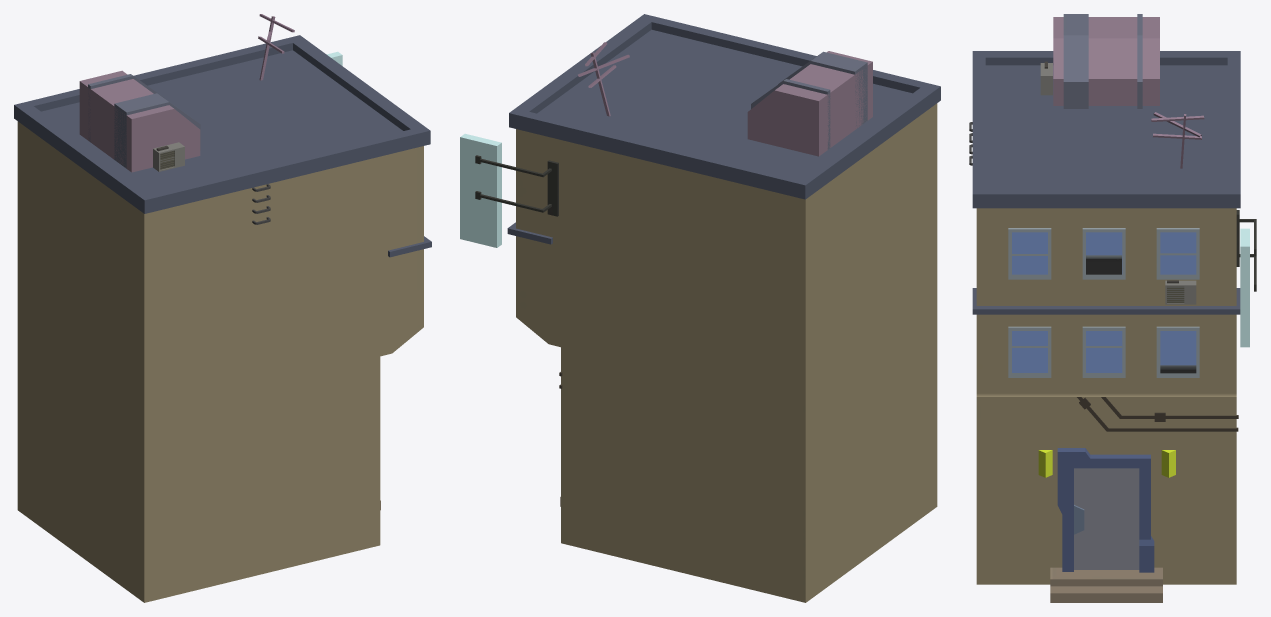
File: NorthWest_House_07.fbx
3 renders of one model, left to right at view 1: azimuth 30°, elevation 25°; view 2: azimuth 150°, elevation 25°; view 3: azimuth 270°, elevation 25°, orthographic. The views are drawn at different scales.
Parts seen in each view (by area): view 1: NorthWest_House_07; view 2: NorthWest_House_07; view 3: NorthWest_House_07.
Part boxes in pixels (x1,y1,x2,y2): NorthWest_House_07: (14,14,431,602); NorthWest_House_07: (460,14,940,602); NorthWest_House_07: (969,14,1256,602).
Size of the model in its own units: 18.88 by 25.05 by 13.94.
2 materials, 2 textured.
